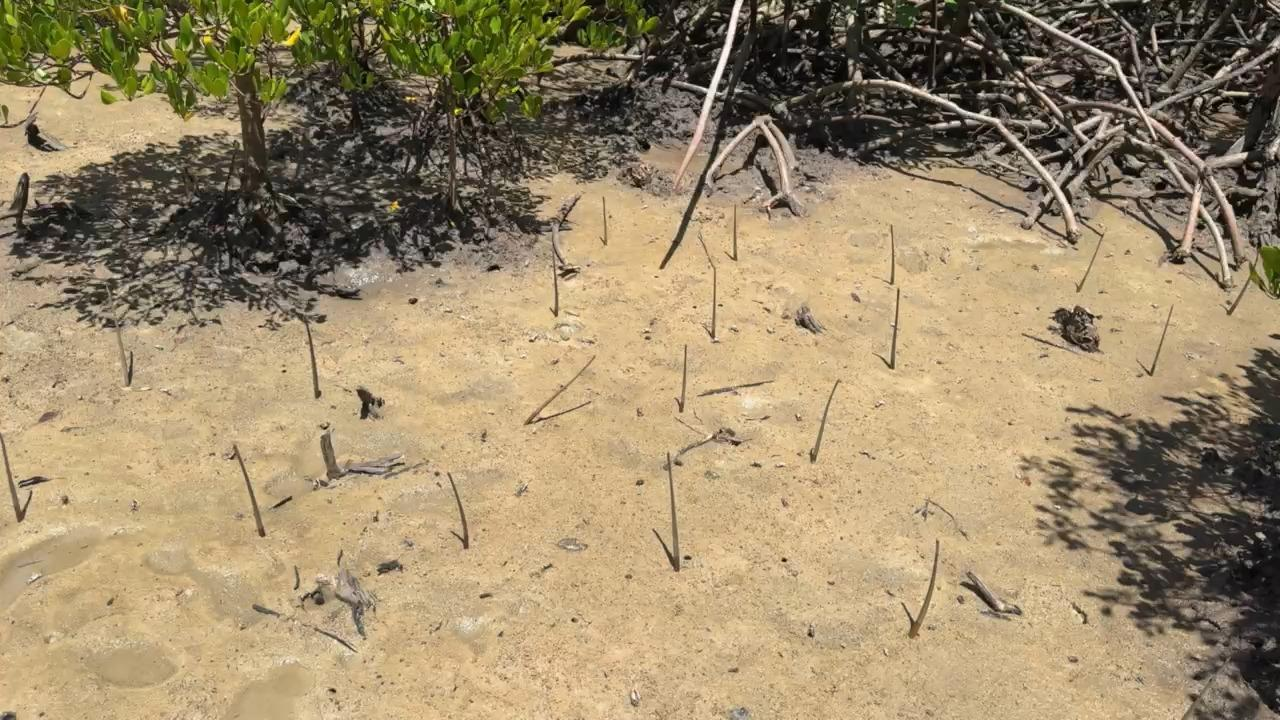Tree: (524, 352, 597, 424), (909, 539, 941, 637), (233, 444, 266, 537), (106, 286, 131, 386), (812, 379, 841, 462), (1228, 245, 1261, 315), (0, 435, 25, 520), (666, 452, 682, 572), (1149, 304, 1175, 374), (1077, 231, 1106, 292), (448, 472, 468, 548), (305, 313, 321, 398), (890, 287, 902, 368), (679, 344, 689, 413), (711, 270, 718, 339), (552, 251, 559, 316), (731, 205, 739, 261), (890, 225, 895, 287), (603, 196, 607, 244)
